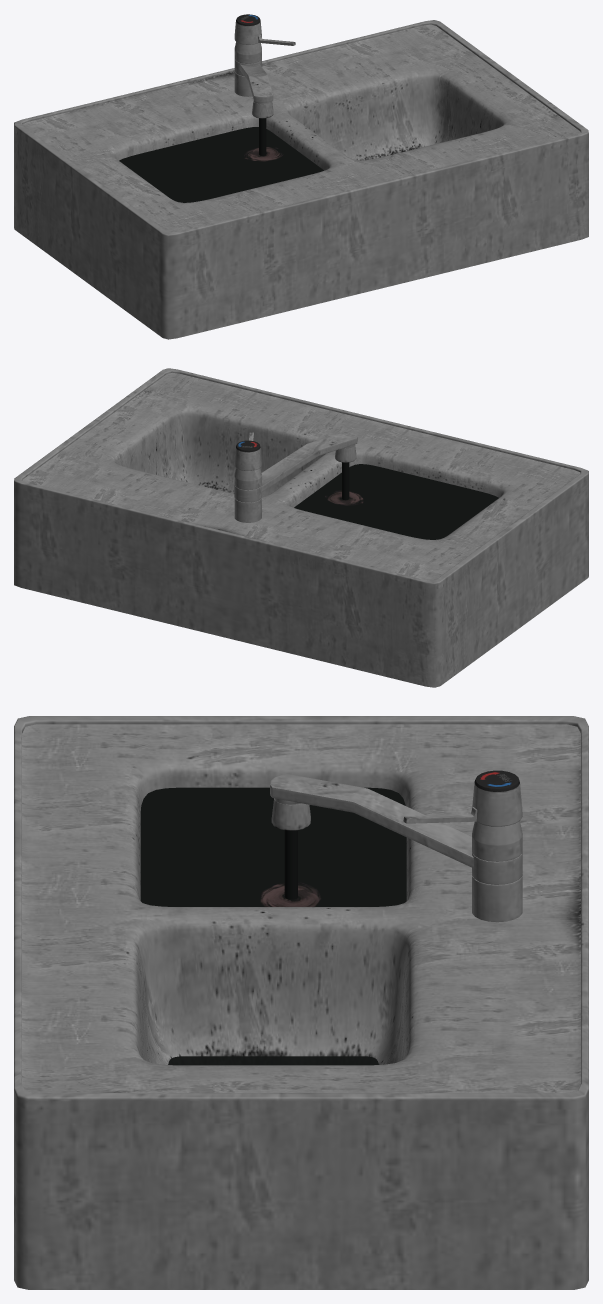
3 views of the same model, one above another, from view 1: azimuth 30°, elevation 25°; view 2: azimuth 150°, elevation 25°; view 3: azimuth 270°, elevation 25° (orthographic). The views are drawn at different scales.
Parts seen in each view (by area): view 1: defaultMaterial, Plane003; view 2: defaultMaterial, Plane003; view 3: defaultMaterial, Plane003.
Part boxes in pixels (x1,y1,x2,y2): defaultMaterial: [14, 14, 588, 339]; Plane003: [119, 118, 323, 202]; defaultMaterial: [14, 368, 588, 687]; Plane003: [294, 462, 498, 539]; defaultMaterial: [14, 716, 588, 1289]; Plane003: [140, 787, 406, 1065].
Bounding box in the file's own units: 0.8643 × 0.3369 × 0.5492.
Materials: 2 (2 with a texture image).
